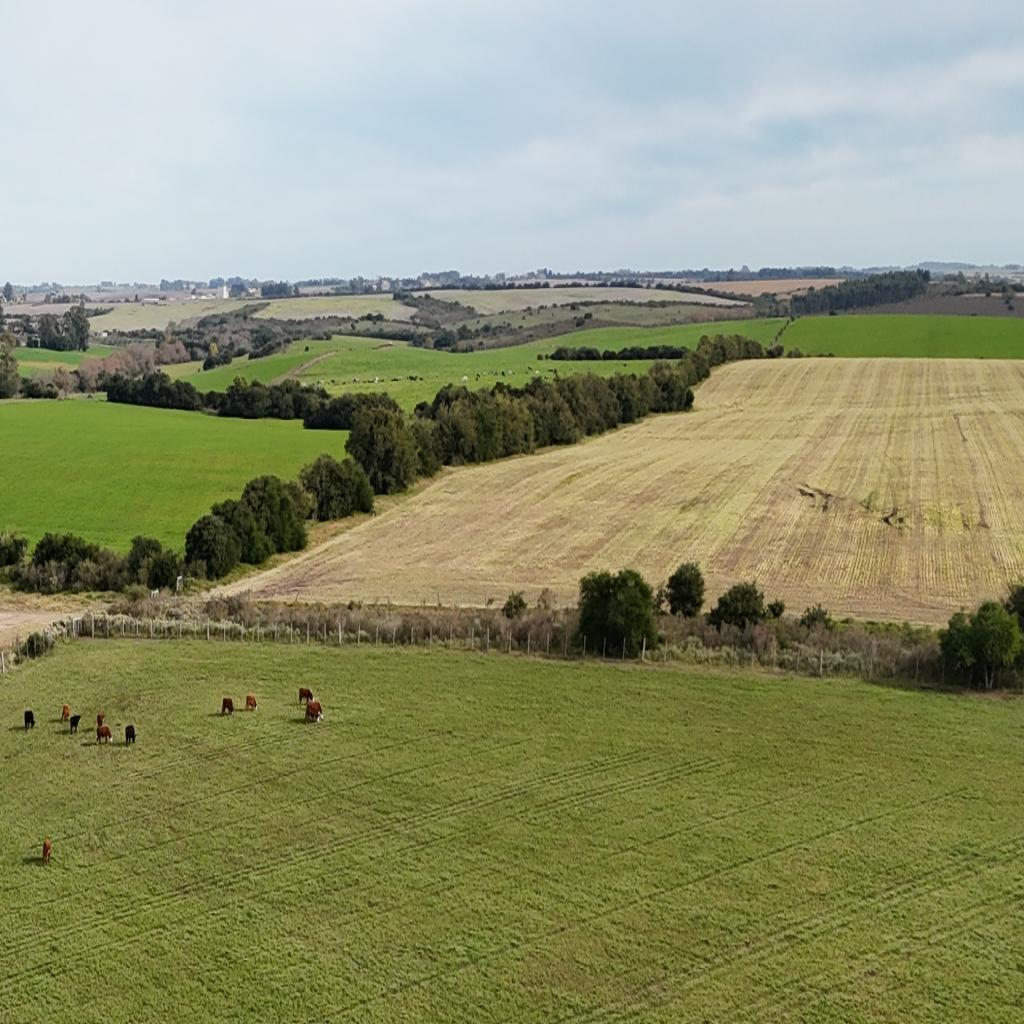cow: (96, 724, 112, 745), (298, 688, 314, 708), (42, 837, 52, 863), (69, 714, 82, 734), (304, 707, 320, 723), (24, 709, 36, 730), (125, 724, 136, 746), (245, 694, 259, 711), (221, 697, 233, 716), (96, 711, 106, 727), (62, 705, 70, 723)
